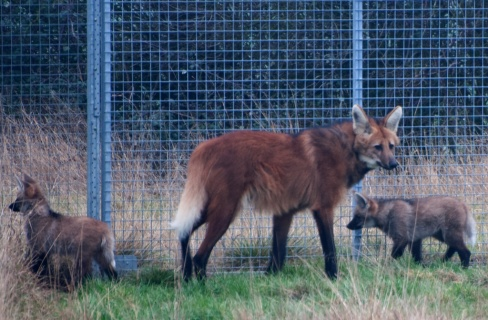Fox: (165, 101, 401, 293), (6, 172, 121, 294), (345, 188, 477, 272)
